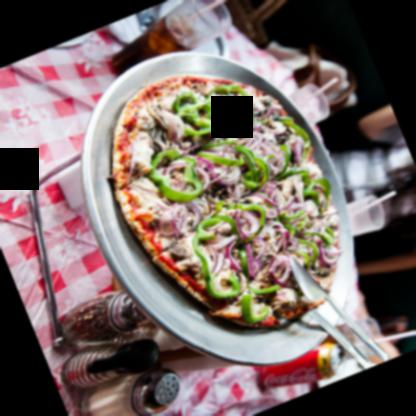handbag: (255, 41, 358, 114)
